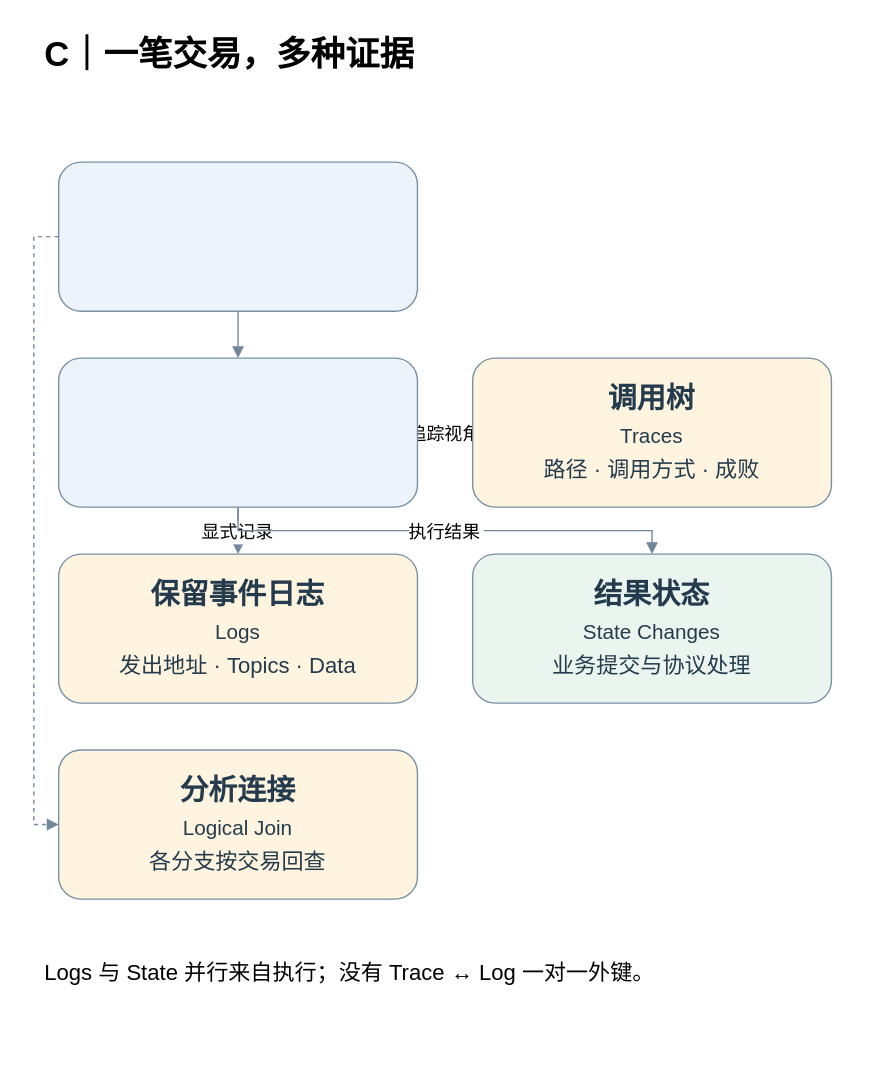
Some shapes in this 872 by 1070 pixel diagram are drawn without their labels. The shapes that lost their labels are listed below. From the top down, each one's centre as x and y in pixels, then its label:
the point at 237,236: 一份顶层请求 One Transaction Hash 识别提交
the point at 237,432: 执行过程 Execution 读取状态并运行代码
